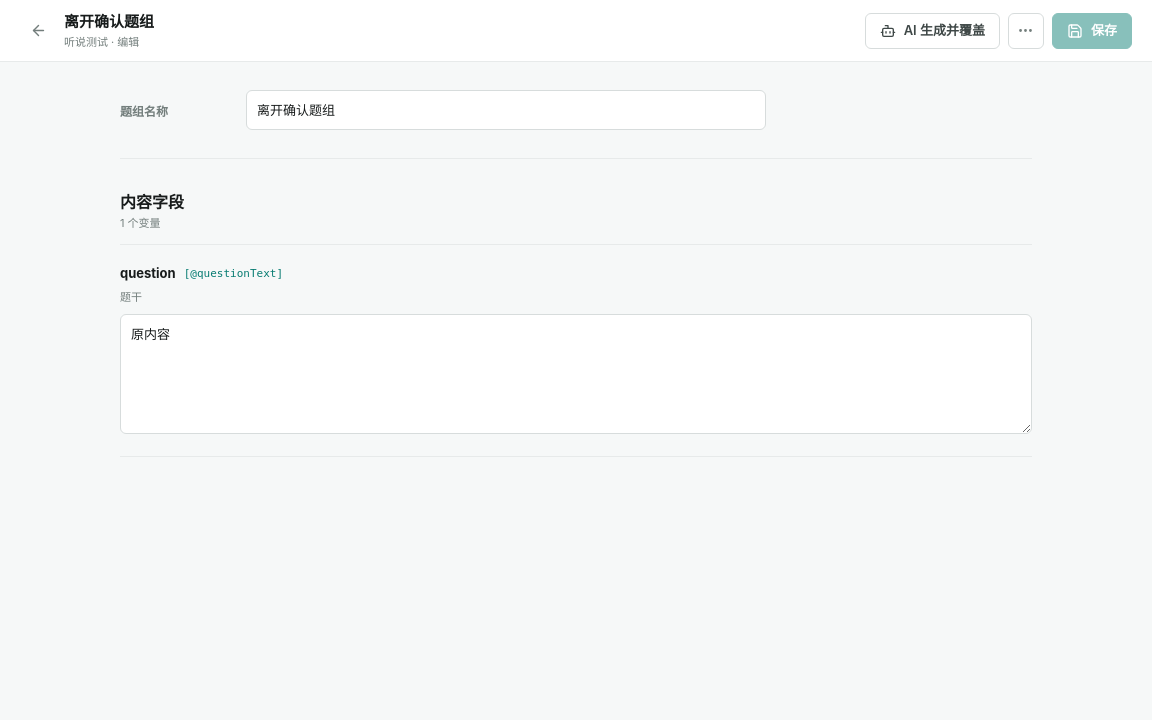
Test: Interface pages › guards leaving an instance with unsaved changes
Replace the text in the text box named "question 内容" with "未保存内容" at (576, 374), box [120,314,1032,434]
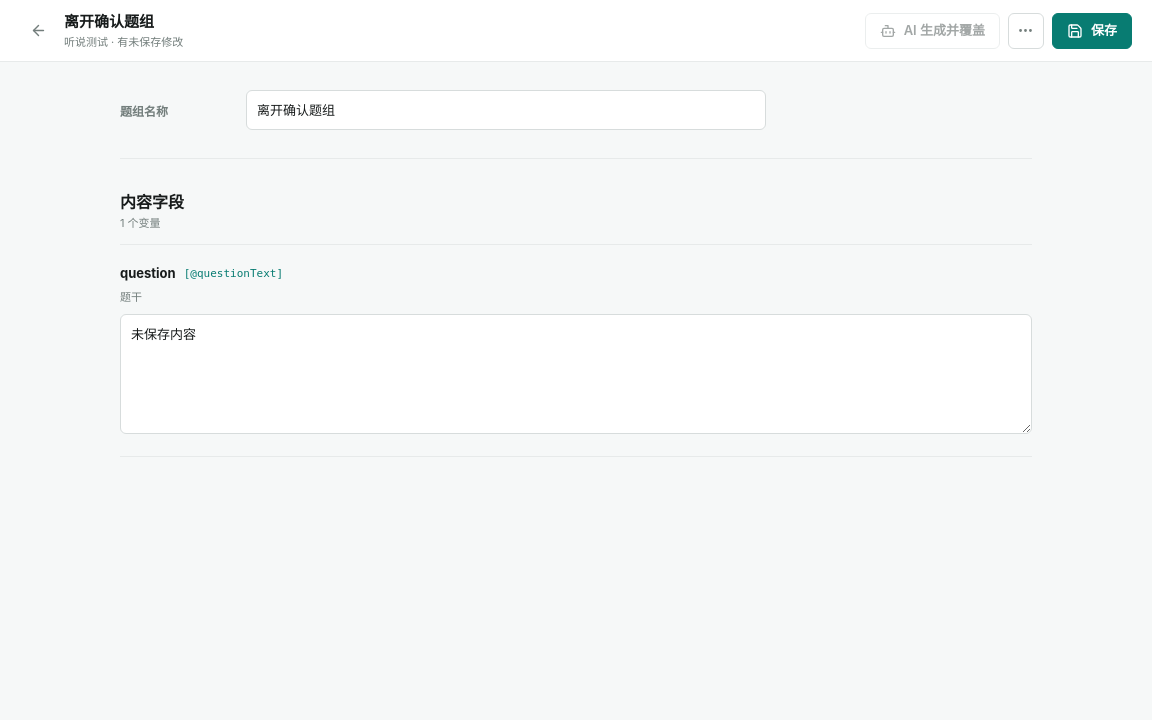
Click the button named "返回题型详情".
click(38, 30)  # box [20,12,56,48]
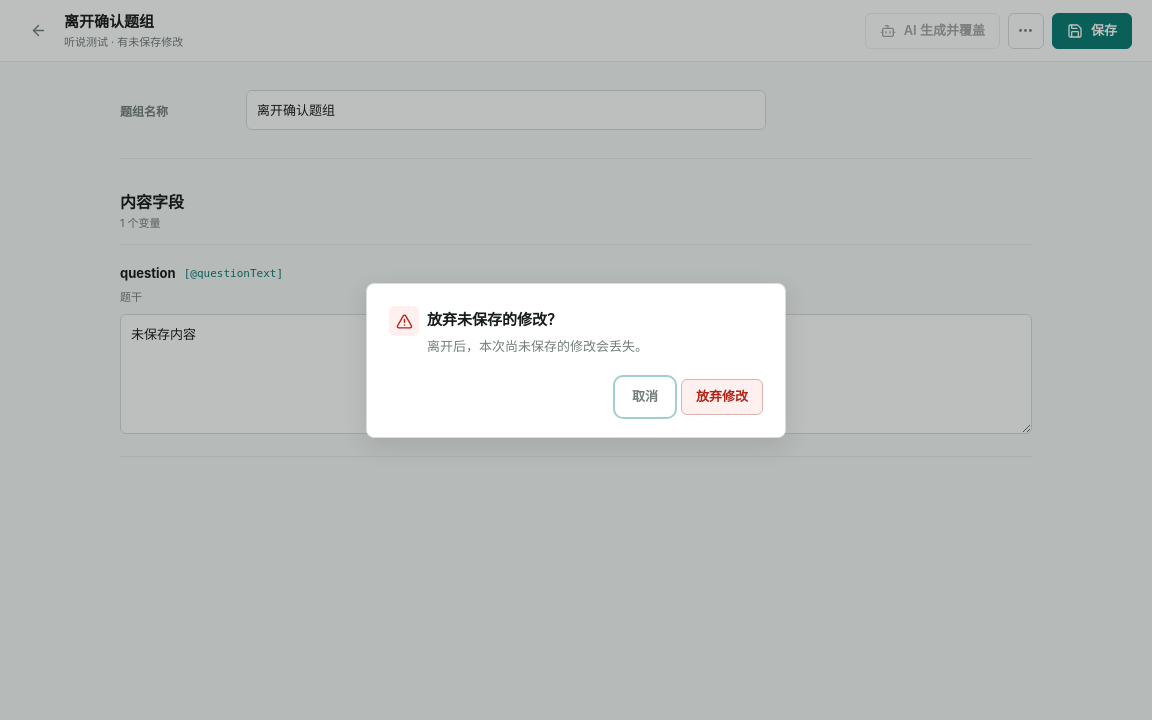
Now the dialog "放弃未保存的修改？" is shown, box [366,283,786,437]
Click the button "取消".
click(645, 396)  # box [617,378,673,414]
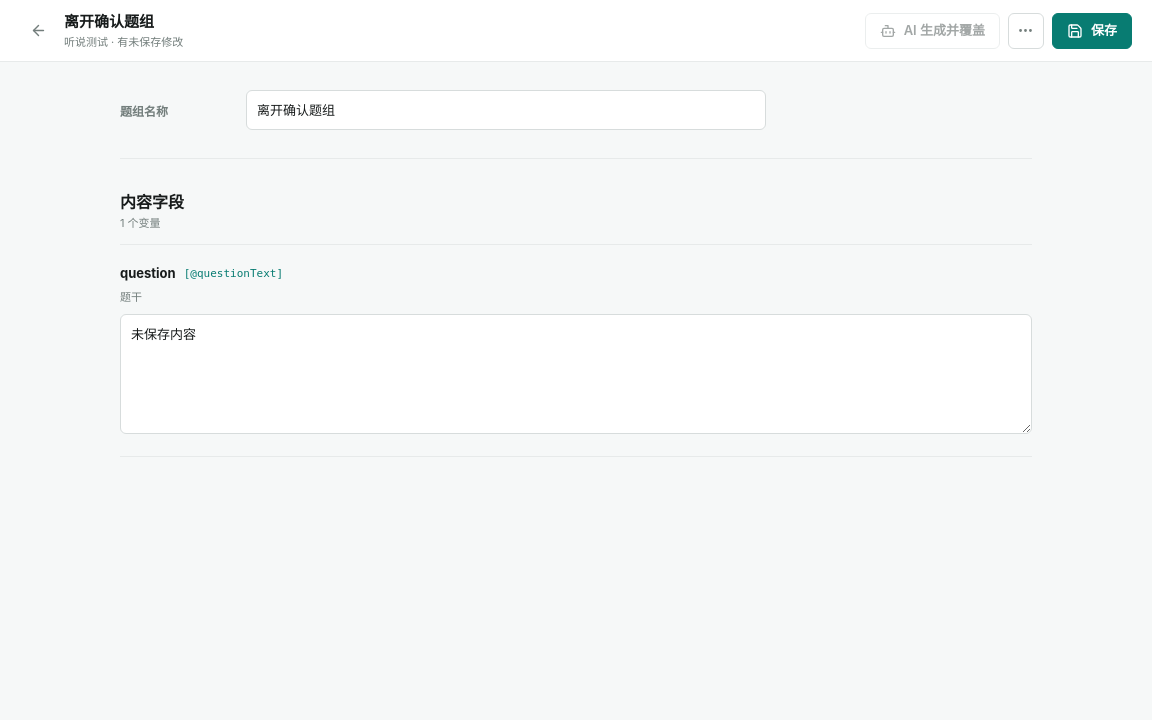
Click the button named "返回题型详情".
click(38, 30)  # box [20,12,56,48]
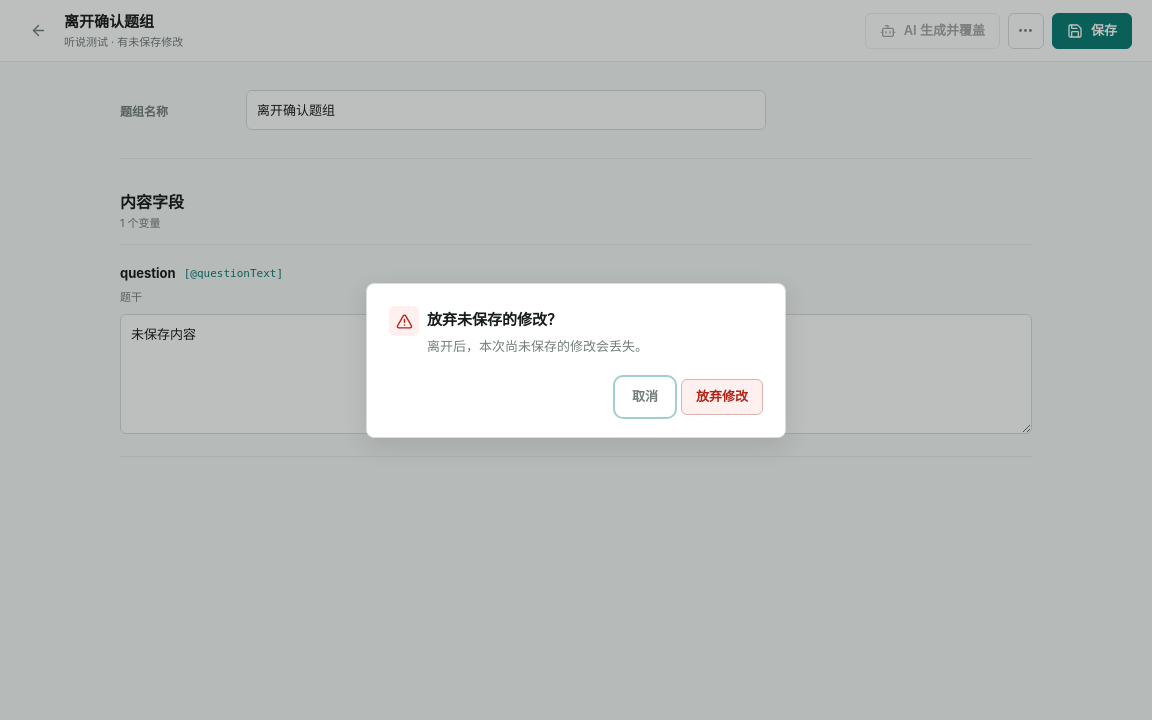
Click the button "放弃修改".
click(722, 396)  # box [681,378,763,414]
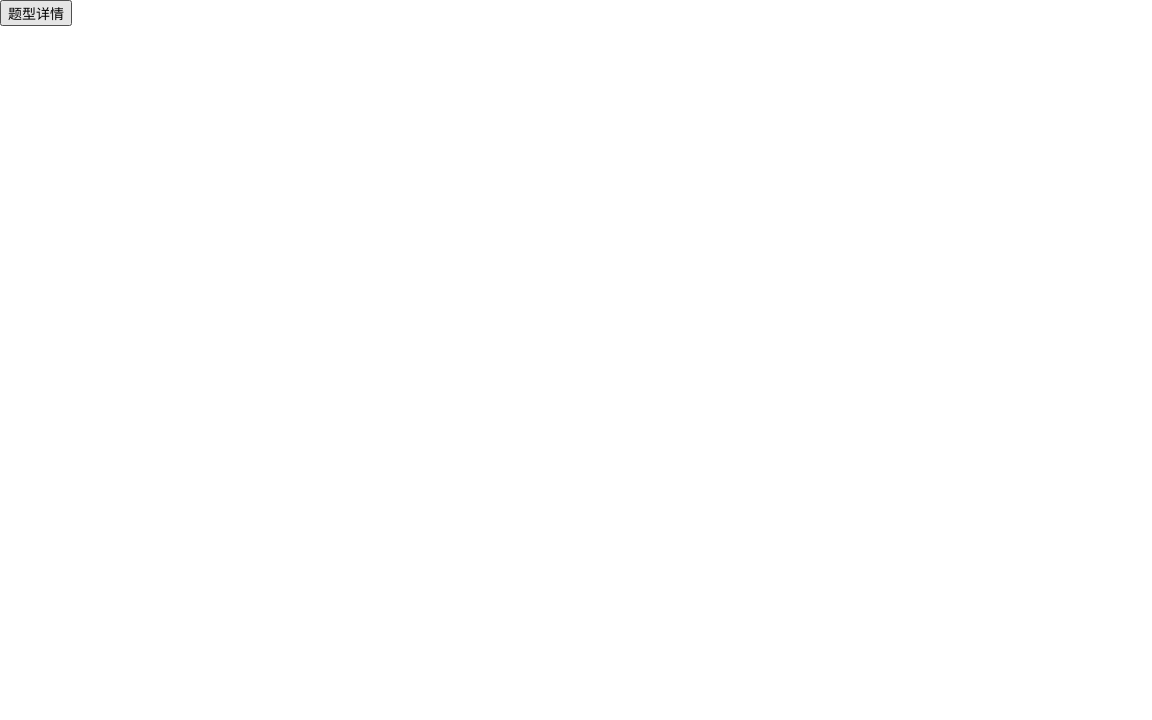
Now the button "题型详情" is shown, box [0,0,72,26]
